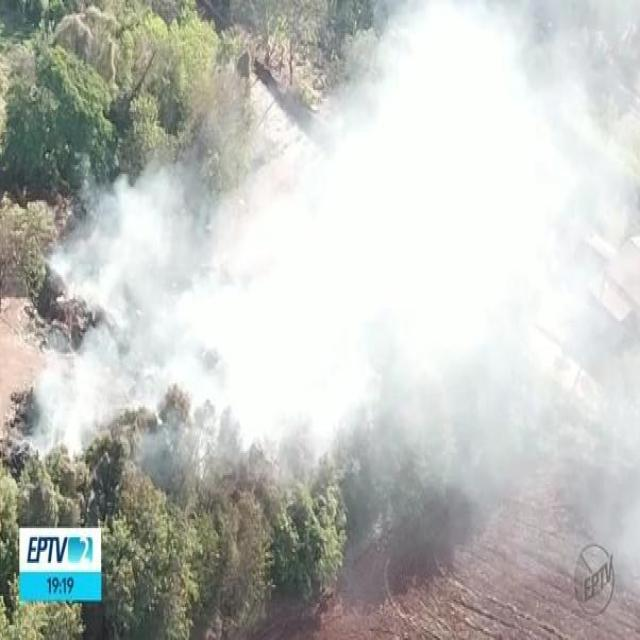Smoke: (14, 0, 637, 572)
